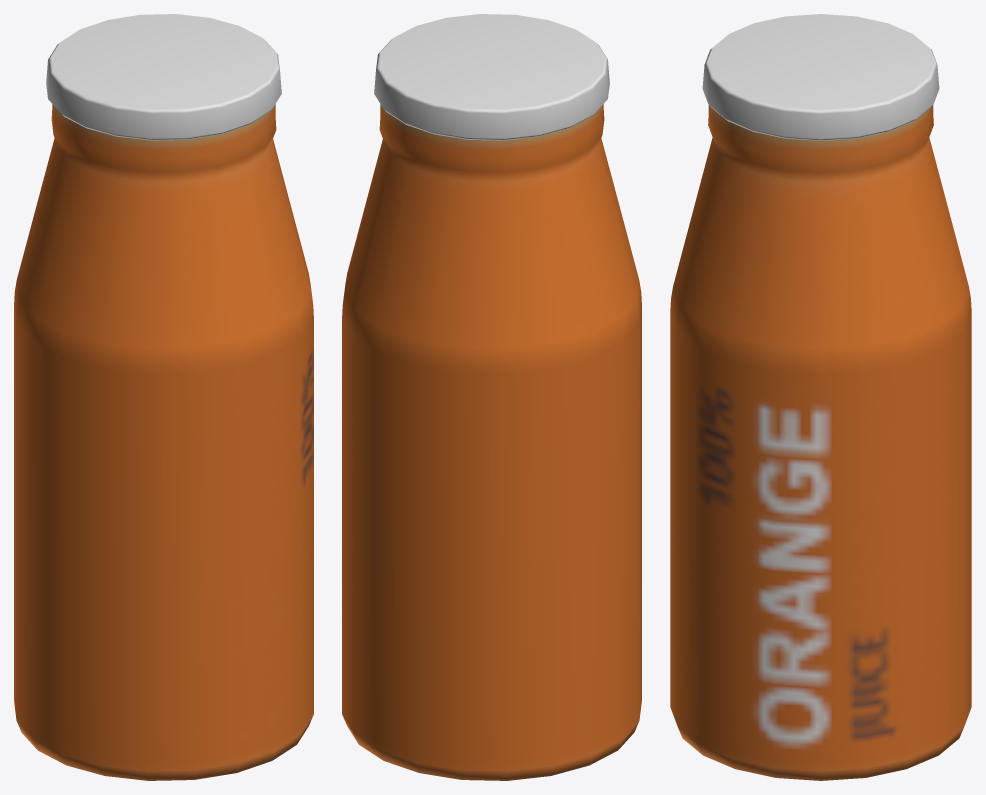
File: SM_Juice_02.fbx
The picture shows the model from 3 angles, left to right: view 1: azimuth 30°, elevation 25°; view 2: azimuth 150°, elevation 25°; view 3: azimuth 270°, elevation 25°; orthographic projection.
Parts seen in each view (by area): view 1: SM_Juice_02_LOD0; view 2: SM_Juice_02_LOD0; view 3: SM_Juice_02_LOD0.
Boxes of the visible parts, x1=… form: SM_Juice_02_LOD0: x1=14, y1=14, x2=313, y2=780; SM_Juice_02_LOD0: x1=342, y1=14, x2=641, y2=780; SM_Juice_02_LOD0: x1=670, y1=14, x2=971, y2=780.
Bounding box in the file's own units: 6.91 × 6.91 × 16.77.
1 material, 1 textured.
